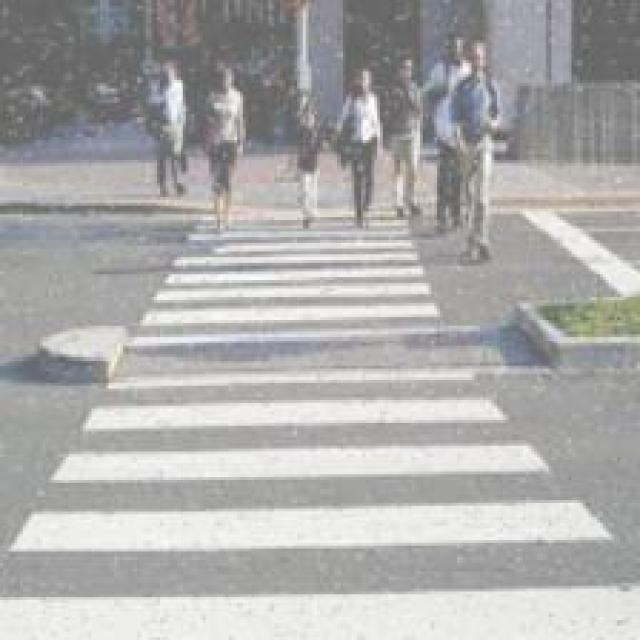crosswalk: (3, 213, 640, 640)
